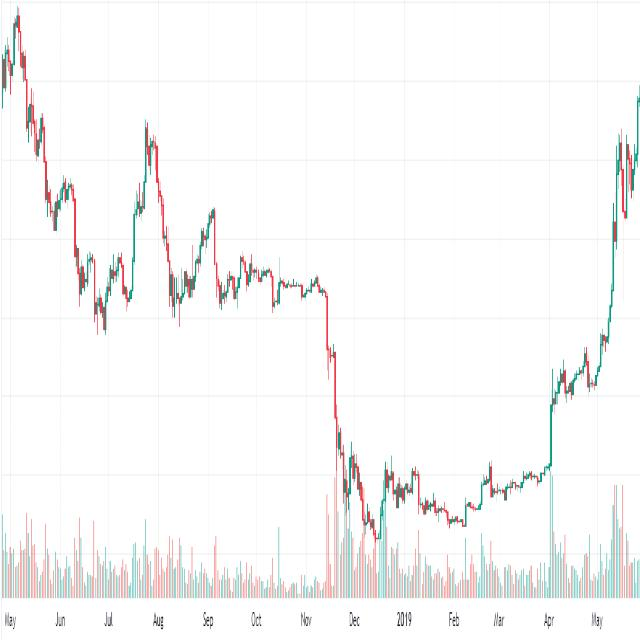Rounding-Bottom: (317, 405, 560, 560)
rectangle: (214, 250, 330, 326)
